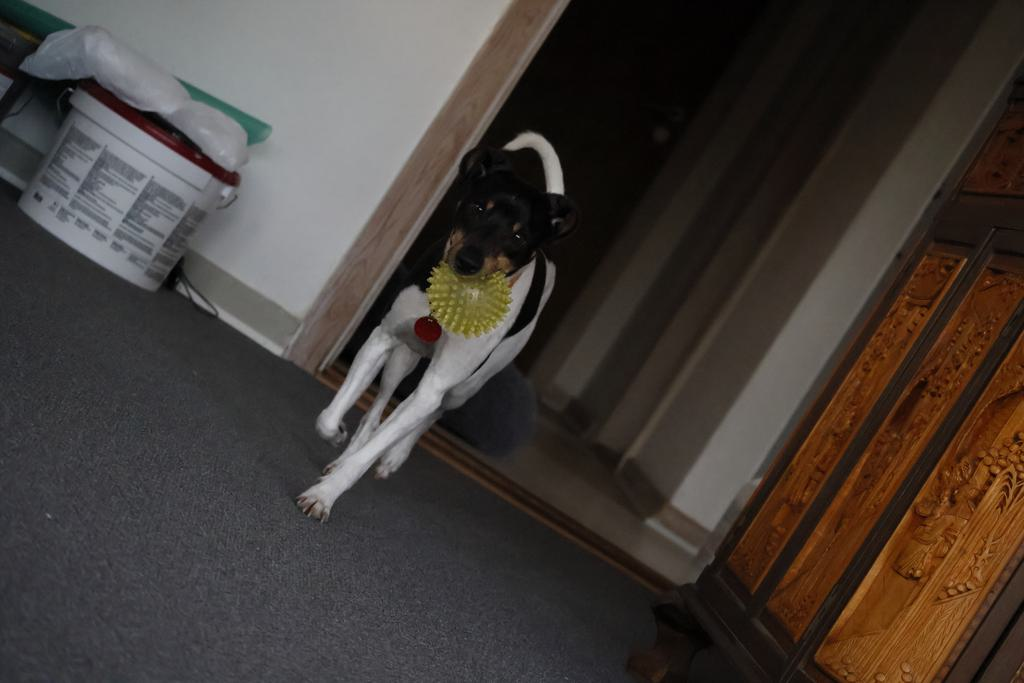Dog: (279, 123, 602, 536)
